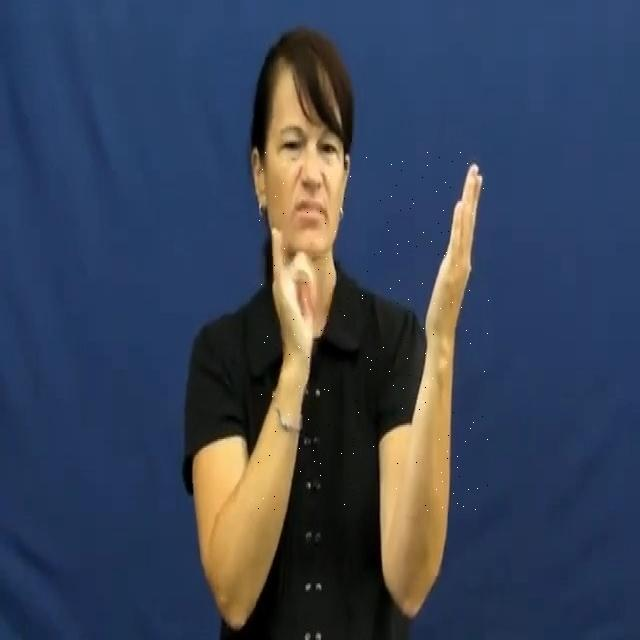menu: (258, 150, 489, 512)
